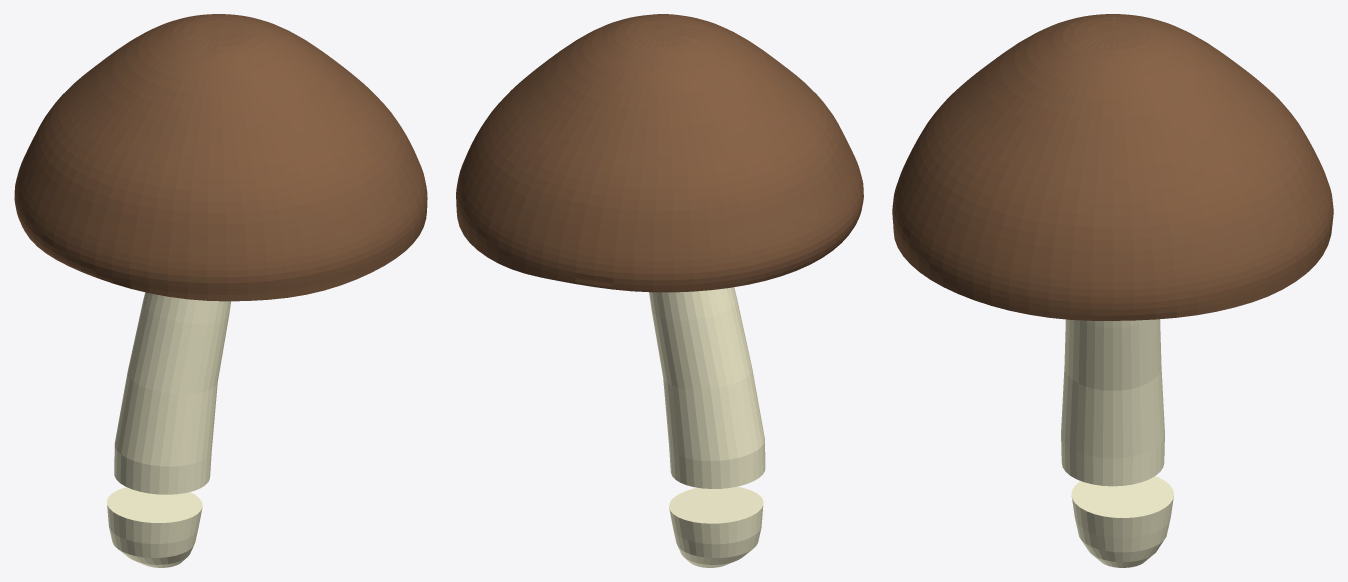
Rendered from mushroom-2-split.fbx.
The picture shows the model from 3 angles, left to right: view 1: azimuth 30°, elevation 25°; view 2: azimuth 150°, elevation 25°; view 3: azimuth 270°, elevation 25°; orthographic projection. The views are drawn at different scales.
Parts seen in each view (by area): view 1: Cylinder, Cylinder.001; view 2: Cylinder, Cylinder.001; view 3: Cylinder, Cylinder.001.
Boxes of the visible parts, x1,y1,x2,y2 form: Cylinder: [14, 14, 427, 494]; Cylinder.001: [107, 487, 202, 567]; Cylinder: [456, 14, 863, 488]; Cylinder.001: [669, 486, 763, 567]; Cylinder: [892, 14, 1333, 486]; Cylinder.001: [1071, 476, 1173, 567].
Bounding box in the file's own units: 188 × 261 × 188.
